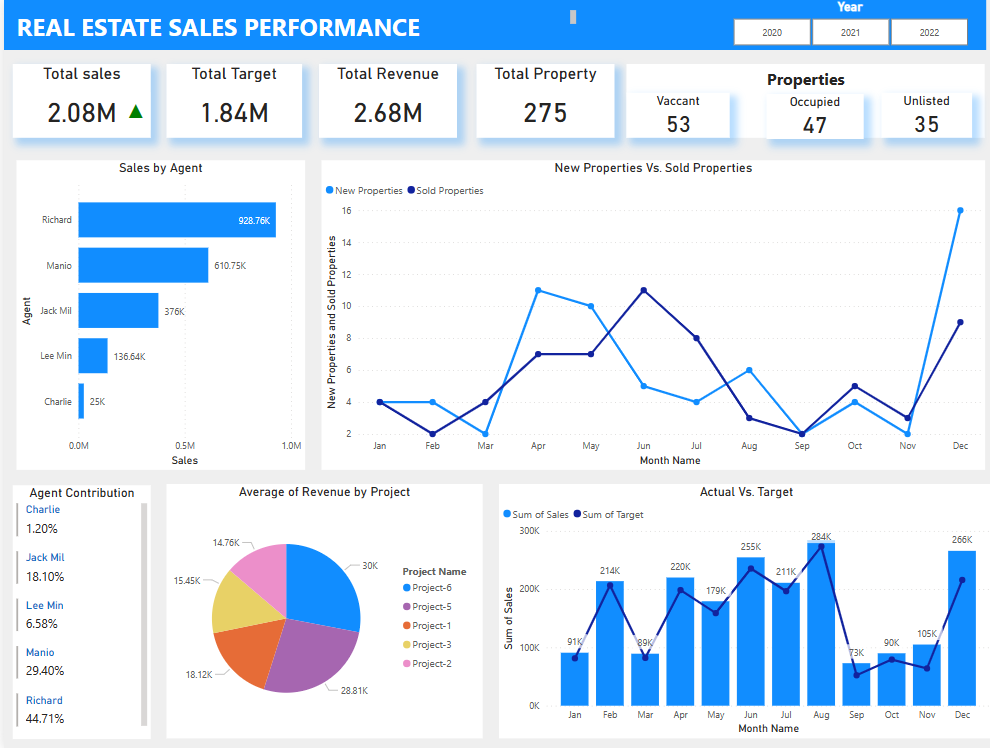

The page's visual inventory and layout, read from the dashboard file:
{"tool":"powerbi","page":{"name":"Home","canvas":[1320,1000],"ordinal":0},"visuals":[{"type":"shape","box":[0,0,1309.2,68.3],"z":0},{"type":"textbox","box":[12.3,9.8,756,49.2],"z":1000},{"type":"card","title":"Total sales","fields":{"Values":["Real Estate Data.Sales"]},"box":[11.1,86,184.4,98.3],"z":2000},{"type":"card","title":"Total Target","fields":{"Values":["Real Estate Data.Target"]},"box":[216,85.9,180.4,98.7],"z":3000},{"type":"card","title":"Total Revenue","fields":{"Values":["Real Estate Data.Revenue"]},"box":[420.8,85.9,184.1,98.7],"z":4000},{"type":"card","title":"Total Property","fields":{"Values":["Real Estate Data.Total Property"]},"box":[629.2,85.9,184.1,98.7],"z":5000},{"type":"textbox","box":[830.4,85.9,477.9,98.7],"z":6000},{"type":"card","title":"Vaccant","fields":{"Values":["Real Estate Data.Property Status"]},"box":[830.4,124.9,137.8,59.7],"z":7000},{"type":"card","title":"Occupied","fields":{"Values":["Real Estate Data.Occupied"]},"box":[1016.9,126.1,129.2,59.7],"z":8000},{"type":"card","title":"Unlisted","fields":{"Values":["Real Estate Data.Unlisted"]},"box":[1170.5,124.9,120.7,59.7],"z":9000},{"type":"barChart","fields":{"Category":["Real Estate Data.Agent"],"Y":["Real Estate Data.Sales"]},"box":[16,215.1,384.8,413],"z":10000},{"type":"lineChart","title":"New Properties Vs. Sold Properties ","fields":{"Category":["DimDate.Month Name"],"Y":["Real Estate Data.New Properties","Real Estate Data.Sold Properties"]},"box":[424.1,215.1,885.1,413],"z":11000},{"type":"multiRowCard","title":"Agent Contribution","fields":{"Values":["Real Estate Data.Agent","Real Estate Data.Agent Contribution"]},"box":[11.6,647.7,184.4,338.1],"z":12000},{"type":"pieChart","title":"Average of Revenue by Project","fields":{"Category":["Real Estate Data.Project Name"],"Y":["Real Estate Data.Revenue"]},"box":[216.8,646.4,421.6,339.3],"z":13000},{"type":"lineStackedColumnComboChart","title":"Actual Vs. Target","fields":{"Category":["DimDate.Month Name"],"Y":["Real Estate Data.Sales"],"Y2":["Real Estate Data.Target"]},"box":[659.4,646.4,660.1,339.3],"z":14000},{"type":"slicer","title":"Year","fields":{"Values":["DimDate.Year"]},"box":[946.5,0,362.6,68.8],"z":15000},{"type":"card","fields":{"Values":["Real Estate Data.Icon Sales"]},"box":[157.3,125.4,38.1,49.2],"z":16000}]}

Visuals, with their boxes in screenshot pixels (x1, y1, x2, y2), scaled from the page's 1320x1000 canvas onto the 990x748 screenshot:
shape: x1=0 y1=0 x2=982 y2=51
textbox: x1=9 y1=7 x2=576 y2=44
"Total sales" card: x1=8 y1=64 x2=147 y2=138
"Total Target" card: x1=162 y1=64 x2=297 y2=138
"Total Revenue" card: x1=316 y1=64 x2=454 y2=138
"Total Property" card: x1=472 y1=64 x2=610 y2=138
textbox: x1=623 y1=64 x2=981 y2=138
"Vaccant" card: x1=623 y1=93 x2=726 y2=138
"Occupied" card: x1=763 y1=94 x2=860 y2=139
"Unlisted" card: x1=878 y1=93 x2=968 y2=138
barChart - Real Estate Data.Agent x Real Estate Data.Sales: x1=12 y1=161 x2=301 y2=470
"New Properties Vs. Sold Properties " lineChart: x1=318 y1=161 x2=982 y2=470
"Agent Contribution" multiRowCard: x1=9 y1=484 x2=147 y2=737
"Average of Revenue by Project" pieChart: x1=163 y1=484 x2=479 y2=737
"Actual Vs. Target" lineStackedColumnComboChart: x1=495 y1=484 x2=989 y2=737
"Year" slicer: x1=710 y1=0 x2=982 y2=51
card - Real Estate Data.Icon Sales: x1=118 y1=94 x2=147 y2=131
